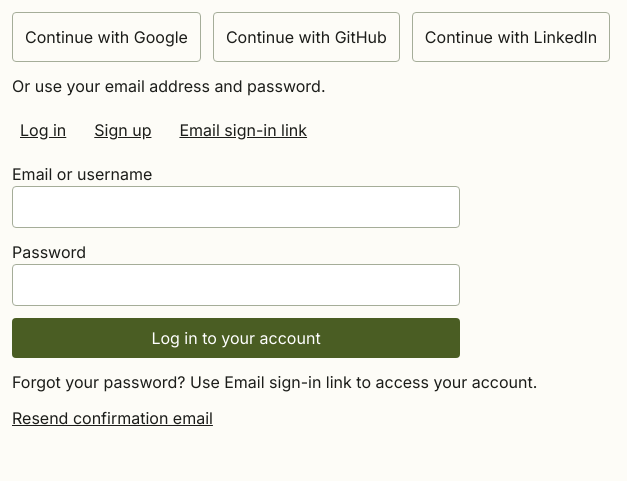
social sign-in › keeps users on the form when a provider is not configured
Click the button "Continue with Google" at (106, 37), box x1=12 y1=12 x2=201 y2=62
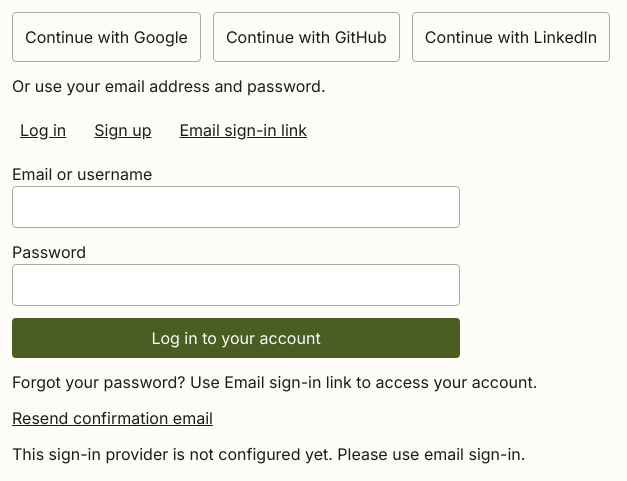
Expected: the message shows "not configured", x1=12 y1=444 x2=525 y2=464
